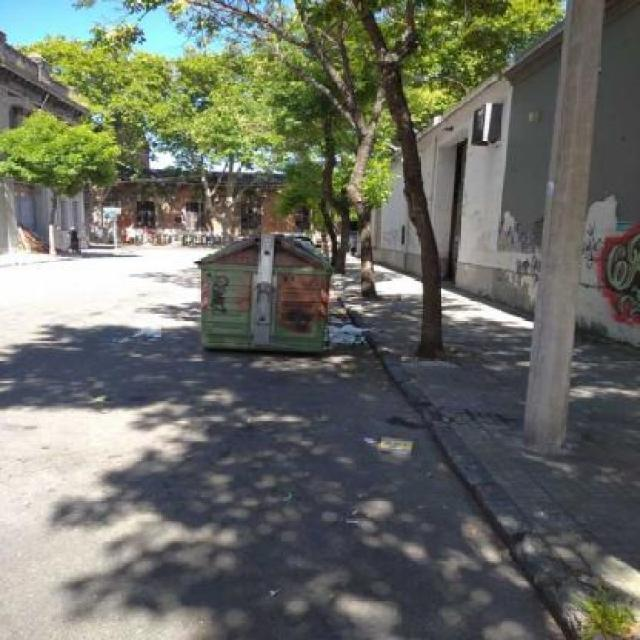garbage: (362, 431, 430, 466), (331, 315, 380, 350)
